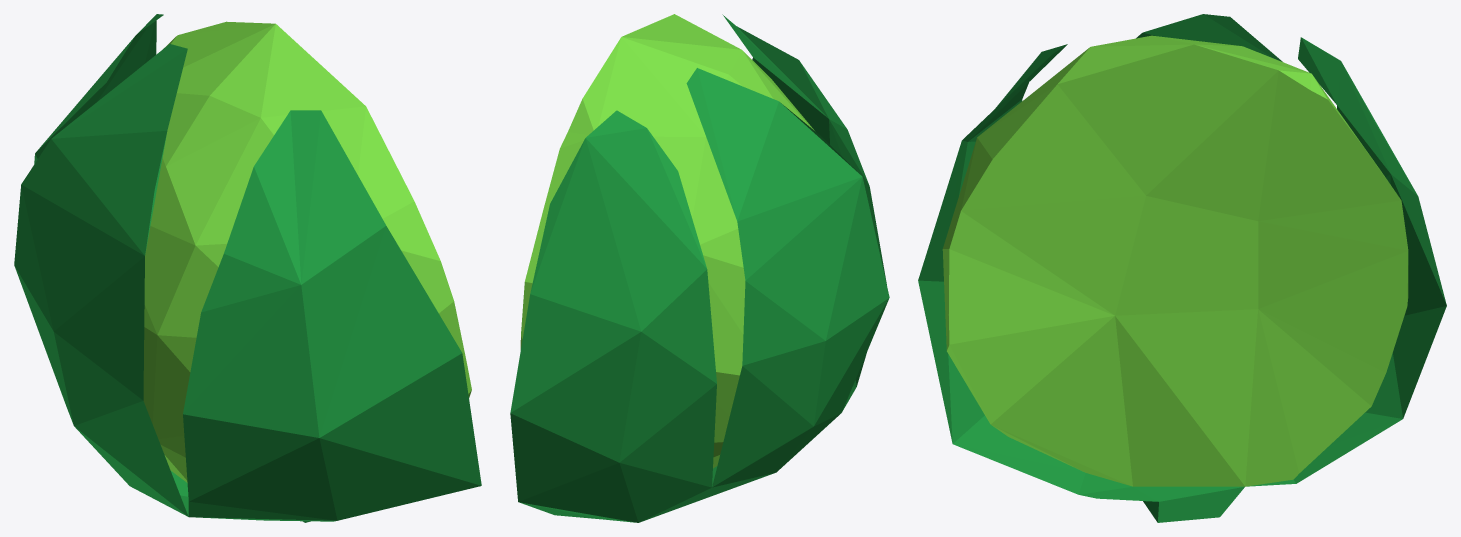
File: Cabage_2.fbx
3 views of the same model, side by side, from view 1: azimuth 30°, elevation 25°; view 2: azimuth 150°, elevation 25°; view 3: azimuth 270°, elevation 25° (orthographic). The views are drawn at different scales.
Parts seen in each view (by area): view 1: Sphere.005; view 2: Sphere.005; view 3: Sphere.005.
Boxes of the visible parts, bbox=[...] form: Sphere.005: bbox=[14, 14, 481, 522]; Sphere.005: bbox=[510, 14, 889, 522]; Sphere.005: bbox=[918, 14, 1446, 522].
Size of the model in its own units: 350 by 338 by 212.
